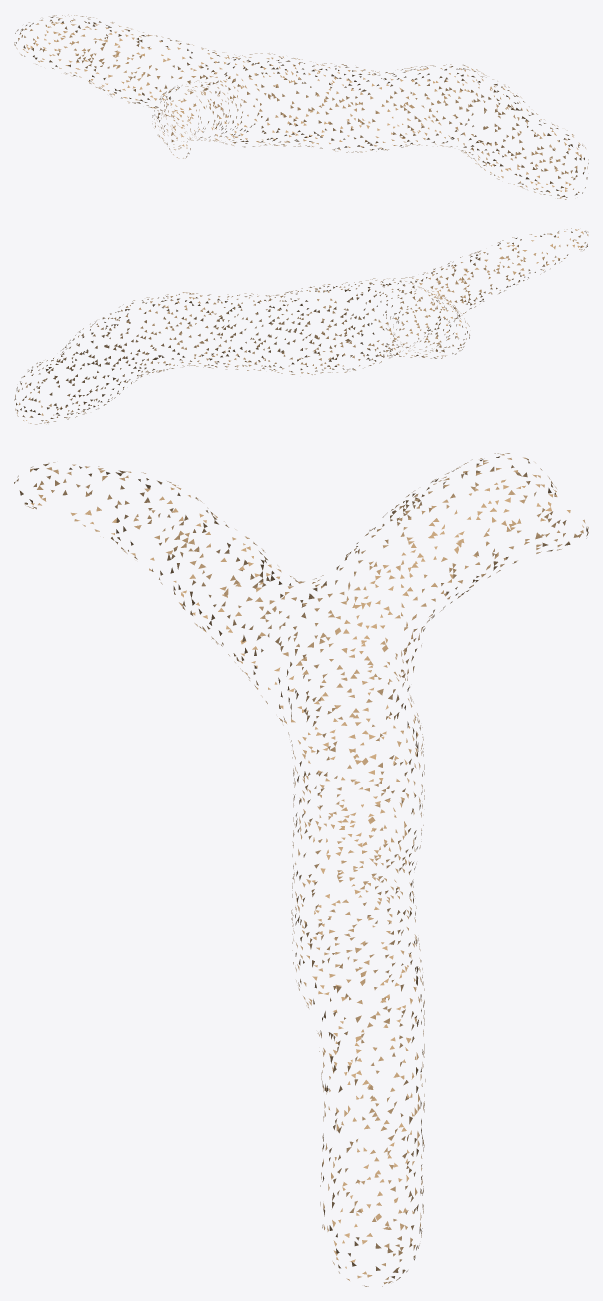
The model's file is morph_006.glb.
The picture shows the model from 3 angles, top to bottom: view 1: azimuth 30°, elevation 25°; view 2: azimuth 150°, elevation 25°; view 3: azimuth 270°, elevation 25°; orthographic projection. The views are drawn at different scales.
Bounding box in the file's own units: 112 × 53.51 × 63.95.
